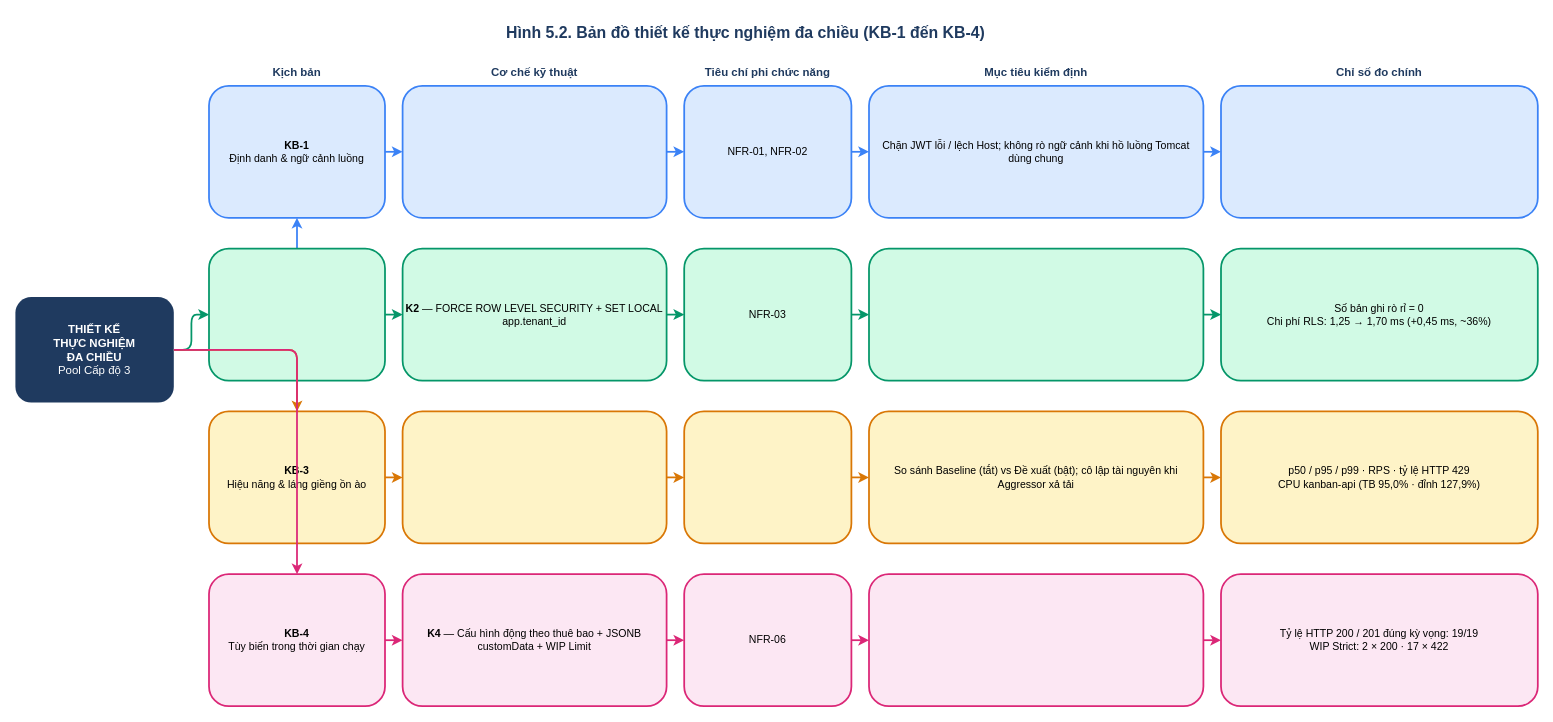
Image size: 1553x722. Some labels were removed from this diagram. The centre of each missing label's shape, as x and y in pixels:
HTTP 401: 500/500 · HTTP 403: 200/200 Khớp X-Tenant-ID/MDC: 1.500/1.500: (1379,151)
K1 — JWT + TenantContextFilter + MDC; Host ↔ tenant: (534,151)
K3 — Cache 2 tầng (L1 Caffeine + L2 Redis) + Token Bucket Rate Limiting: (534,477)
KB-2 Cô lập dữ liệu CSDL & Fail-Closed: (296,314)
Không rò rỉ khi SELECT thiếu WHERE, truy cập chéo UUID, hoặc thiếu SET LOCAL: (1036,314)
NFR-04, NFR-05: (767,477)
Đổi quy tắc / trường mở rộng không sửa mã nguồn, áp dụng ngay: (1036,640)
